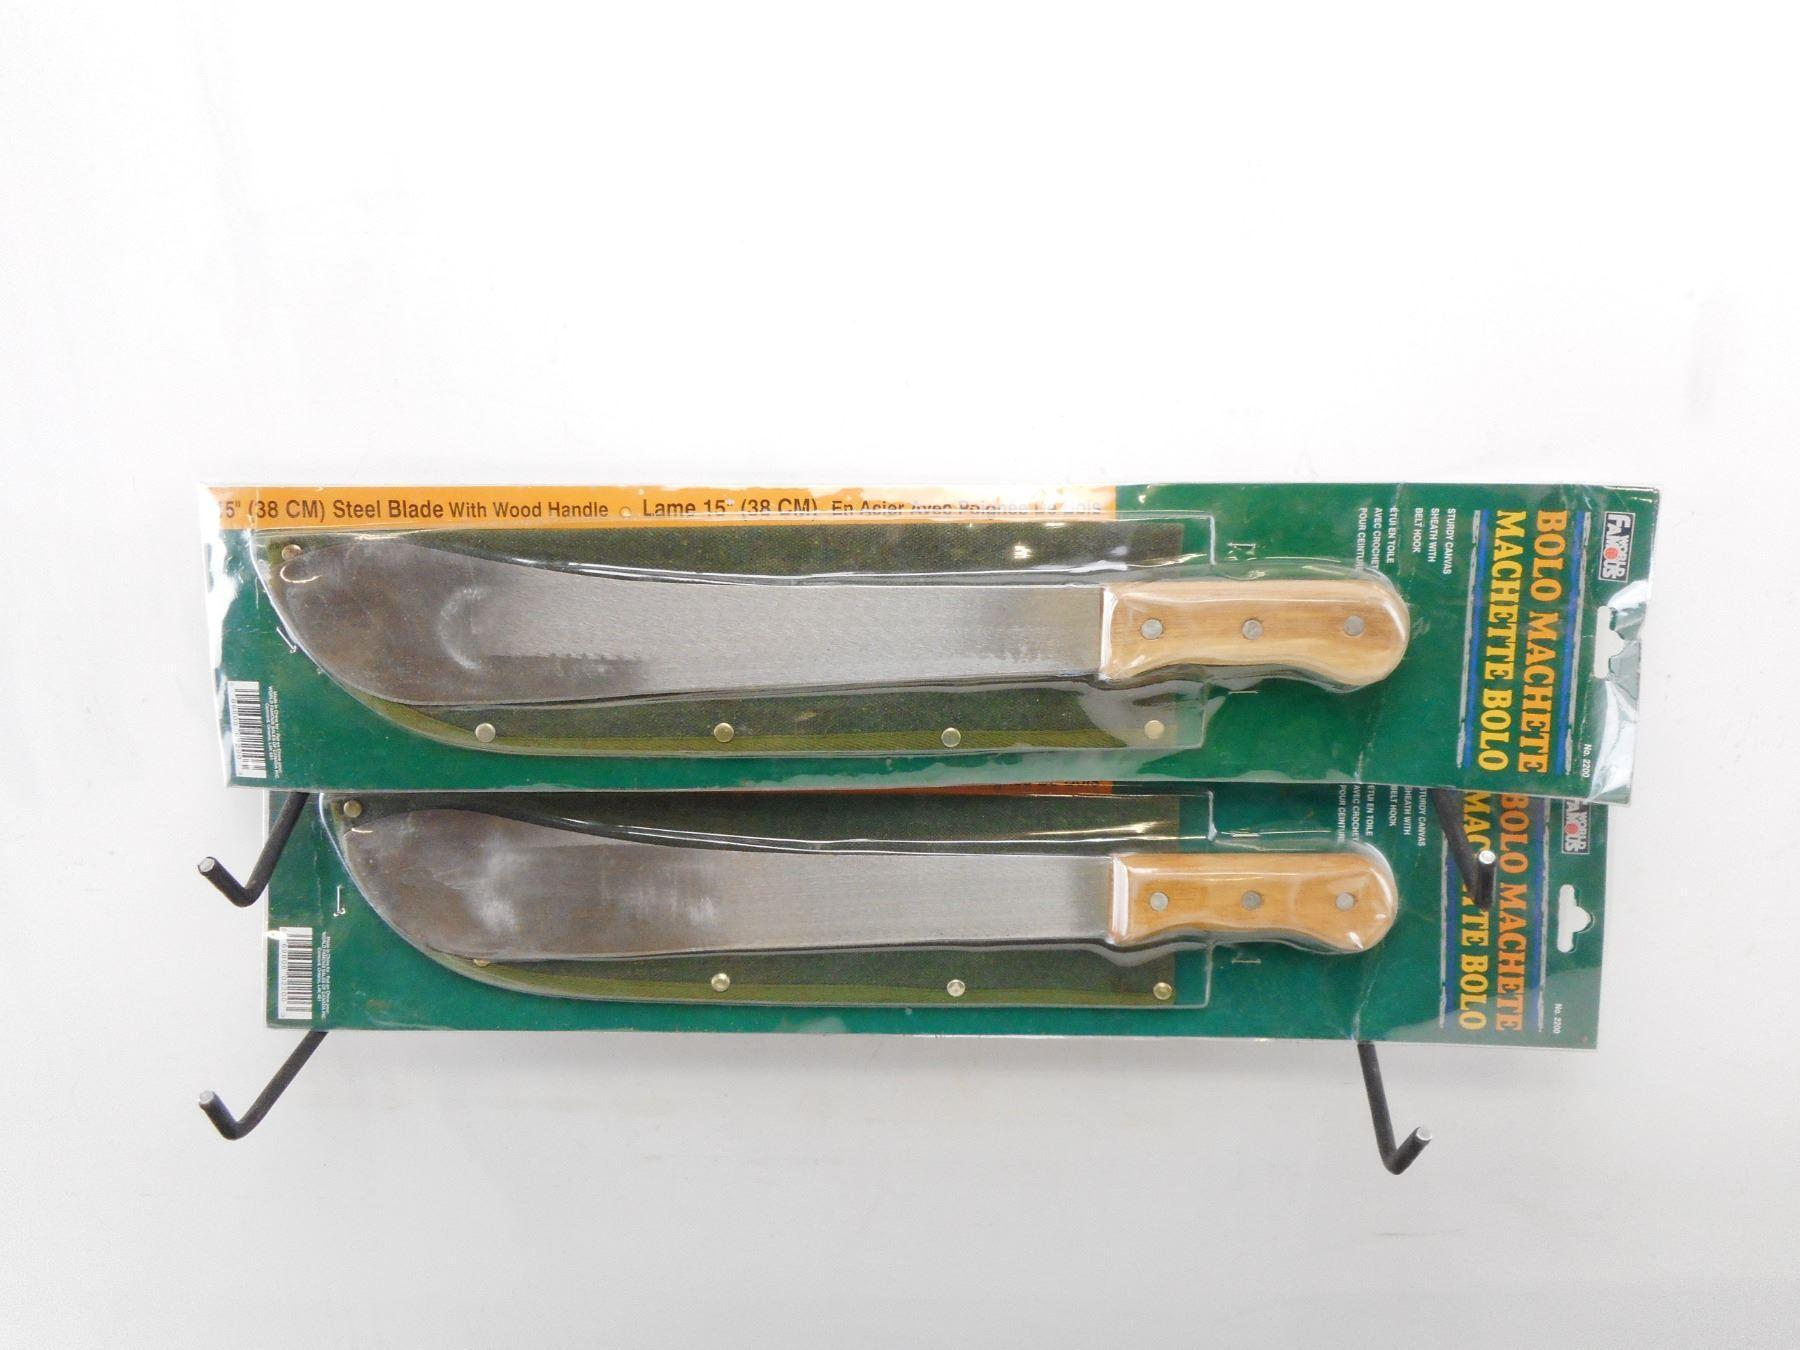facao: (242, 529, 1407, 706), (337, 808, 1397, 964)
